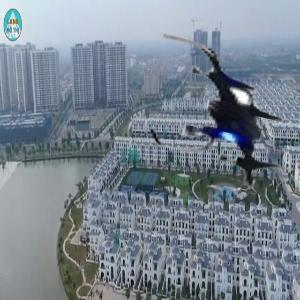drone: (147, 40, 299, 192)
